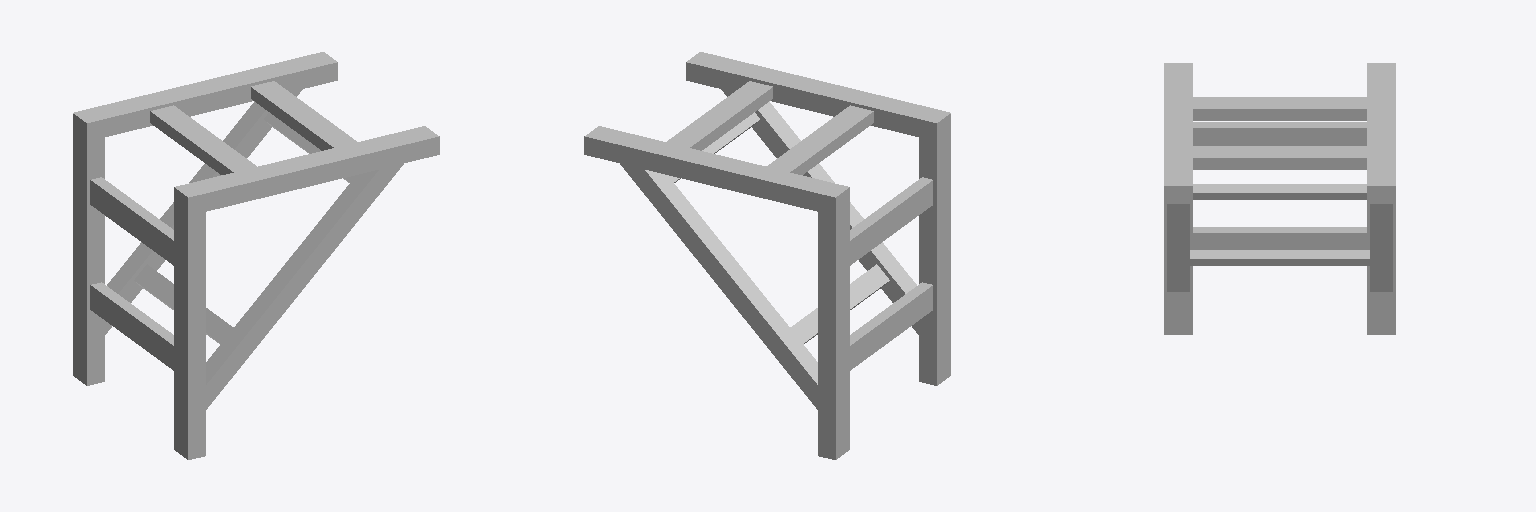
File: woodsupportx-.obj
3 views of the same model, side by side, from view 1: azimuth 30°, elevation 25°; view 2: azimuth 150°, elevation 25°; view 3: azimuth 270°, elevation 25° (orthographic).
Visible parts, largest first — view 1: bedx+; view 2: bedx+; view 3: bedx+.
Boxes of the visible parts, <box> form: bedx+: <box>73,52,439,459</box>; bedx+: <box>584,52,950,459</box>; bedx+: <box>1164,63,1395,334</box>.
Bounding box in the file's own units: 1 × 1 × 0.8.